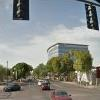Traffic light: (80, 0, 100, 36)
